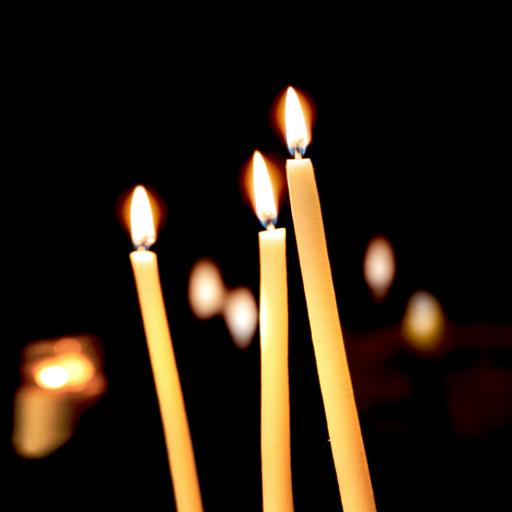candlelight: (281, 94, 380, 507), (122, 188, 218, 510), (248, 152, 294, 508), (400, 290, 446, 355), (360, 234, 398, 304), (283, 86, 311, 159), (128, 184, 158, 250)
